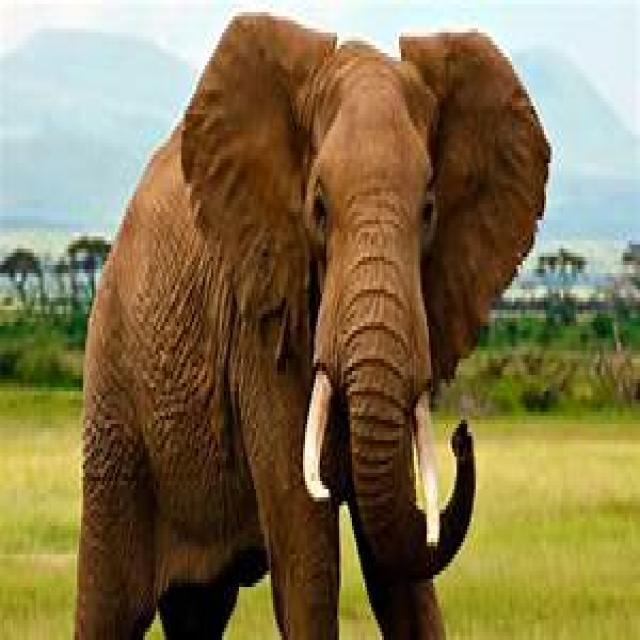elephant: (70, 12, 553, 640)
